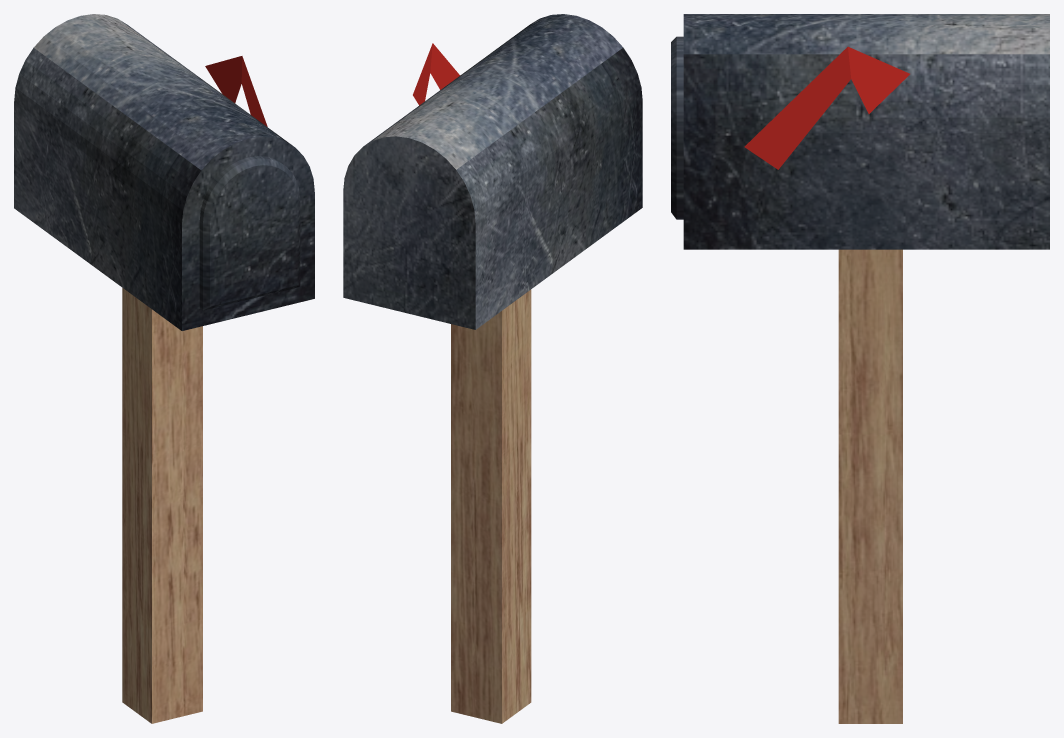
File: mailbox.glb
3 renders of one model, left to right at view 1: azimuth 30°, elevation 25°; view 2: azimuth 150°, elevation 25°; view 3: azimuth 270°, elevation 25°, orthographic. The views are drawn at different scales.
Parts seen in each view (by area): view 1: Cylinder, Cube, Plane; view 2: Cylinder, Cube, Plane; view 3: Cylinder, Cube, Plane.
Boxes of the visible parts, box(x1,y1,x2,y2) form: Cylinder: box(14, 14, 314, 330); Cube: box(122, 288, 202, 723); Plane: box(205, 56, 267, 126); Cylinder: box(343, 14, 642, 329); Cube: box(451, 289, 531, 723); Plane: box(413, 43, 459, 105); Cylinder: box(671, 14, 1049, 249); Cube: box(838, 249, 902, 723); Plane: box(744, 46, 909, 169).
Bounding box in the file's own units: 2.05 × 9.23 × 4.53.
2 materials, 1 textured.
